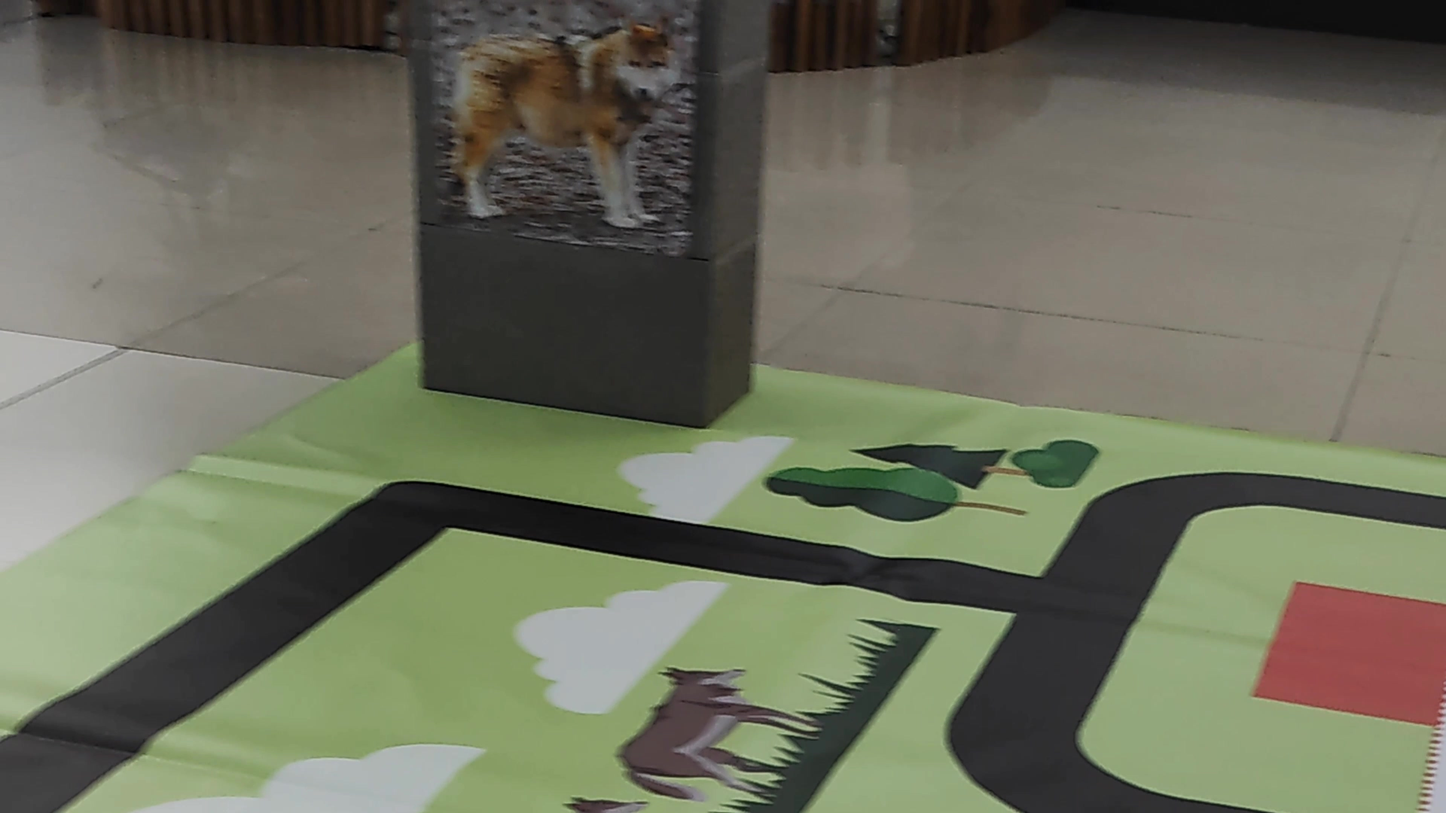wolf: (445, 11, 696, 258)
